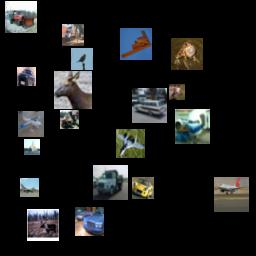airplane: (214, 177, 249, 212), (175, 109, 210, 144), (120, 28, 152, 60), (116, 129, 145, 158), (18, 111, 44, 137), (20, 178, 39, 197)
automobile: (132, 88, 167, 123), (75, 207, 104, 236), (132, 177, 154, 199), (17, 67, 36, 86)
bird: (71, 48, 93, 70)
deer: (54, 71, 92, 109), (27, 209, 59, 241)
frog: (171, 38, 203, 70)
ship: (24, 139, 40, 155)
truck: (93, 165, 128, 200), (5, 1, 37, 33), (62, 24, 84, 46), (60, 110, 79, 129)
